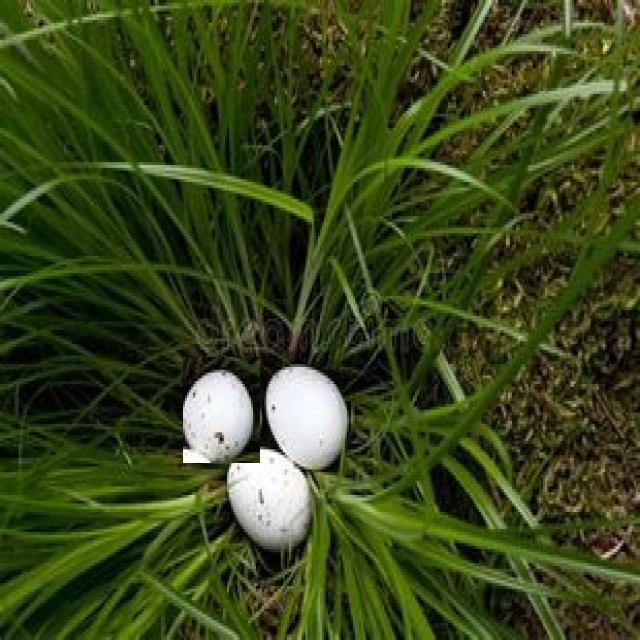Egg: (262, 354, 352, 474), (183, 357, 260, 463)
